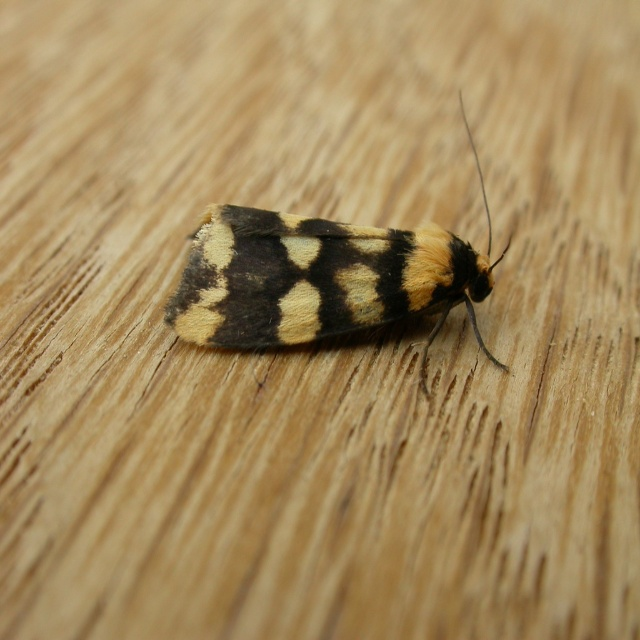Moths and butterflies: (162, 92, 513, 399)
